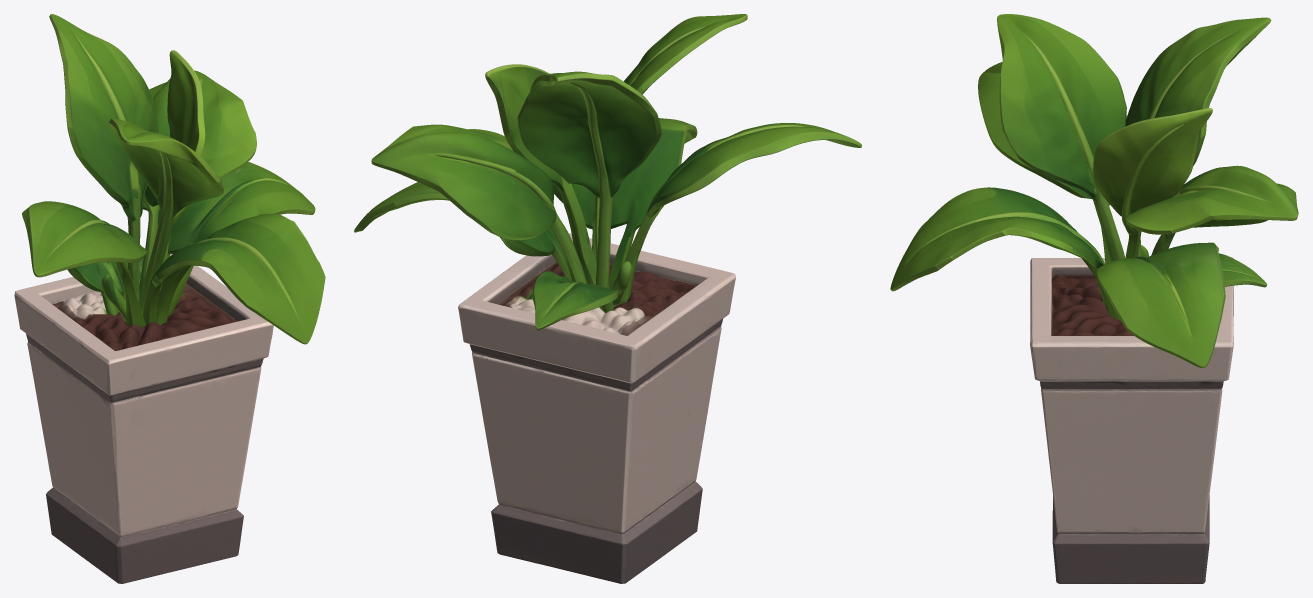
The model's file is Meshy_AI_Potted_Serenity_1021051055_texture.fbx.
3 renders of one model, left to right at view 1: azimuth 30°, elevation 25°; view 2: azimuth 150°, elevation 25°; view 3: azimuth 270°, elevation 25°, orthographic. The views are drawn at different scales.
Parts seen in each view (by area): view 1: Mesh_0; view 2: Mesh_0; view 3: Mesh_0.
Boxes of the visible parts, <box> form: Mesh_0: <box>14,14,325,583</box>; Mesh_0: <box>354,14,861,583</box>; Mesh_0: <box>890,14,1298,583</box>.
Size of the model in its own units: 152 by 190 by 135.
Materials: 1 (1 with a texture image).
